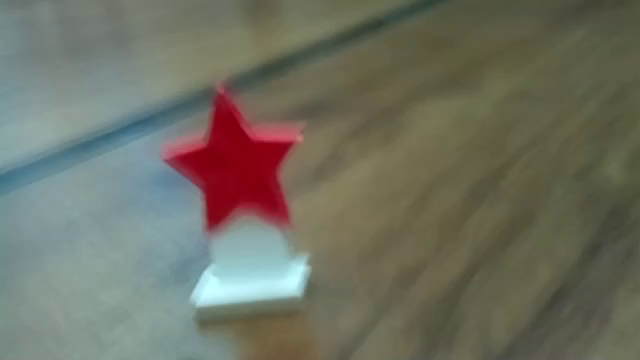star: (148, 71, 338, 333)
